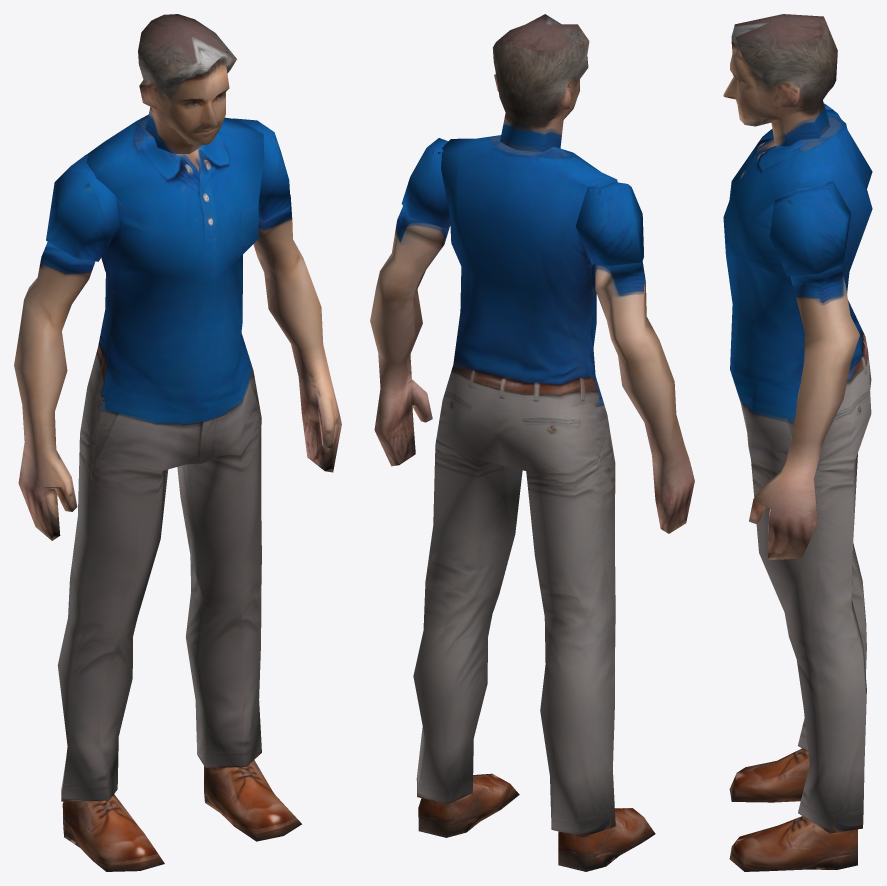
File: RickAinsleyPSX.fbx
3 renders of one model, left to right at view 1: azimuth 30°, elevation 25°; view 2: azimuth 150°, elevation 25°; view 3: azimuth 270°, elevation 25°, orthographic.
Visible parts, largest first — view 1: male_player; view 2: male_player; view 3: male_player.
Part boxes in pixels (x1,y1,x2,y2): male_player: [14, 14, 341, 871]; male_player: [370, 14, 694, 871]; male_player: [723, 14, 872, 871].
Bounding box in the file's own units: 77.79 × 200 × 33.54.
1 material, 1 textured.
